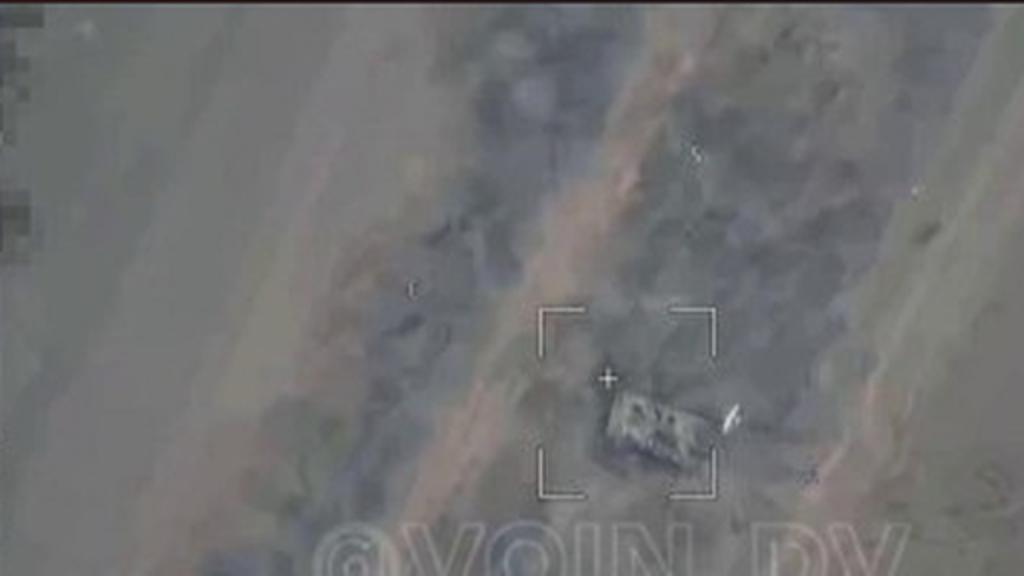ART: (602, 384, 718, 474)
